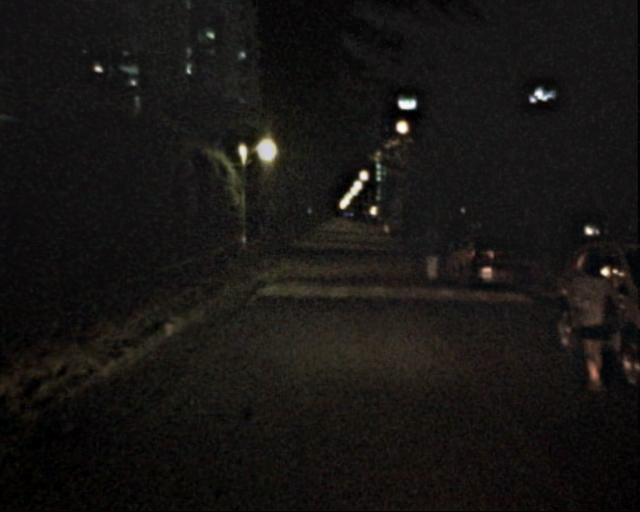person: (561, 251, 617, 387), (421, 225, 444, 282), (406, 228, 426, 276)
